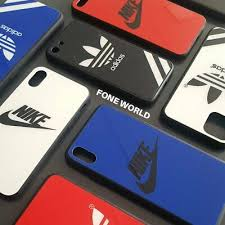adidas: (76, 34, 129, 74), (186, 62, 224, 103), (1, 23, 24, 62)
nike: (137, 136, 161, 193), (1, 109, 55, 130), (120, 1, 143, 30)
